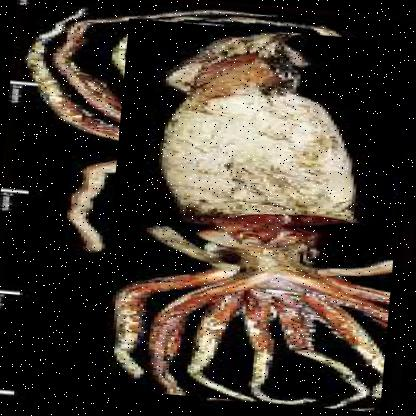colossal_squid: (96, 18, 412, 413)
